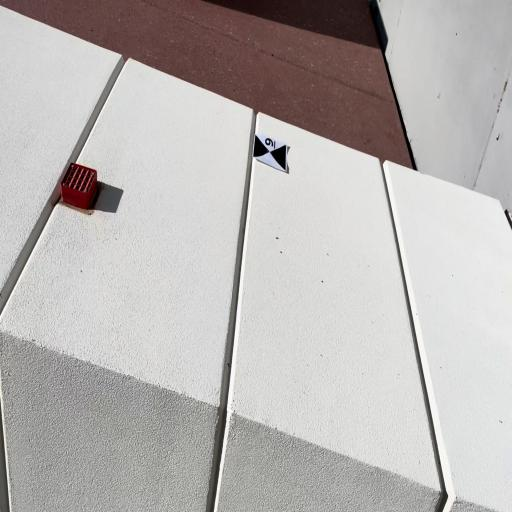target9: (252, 132, 287, 173)
